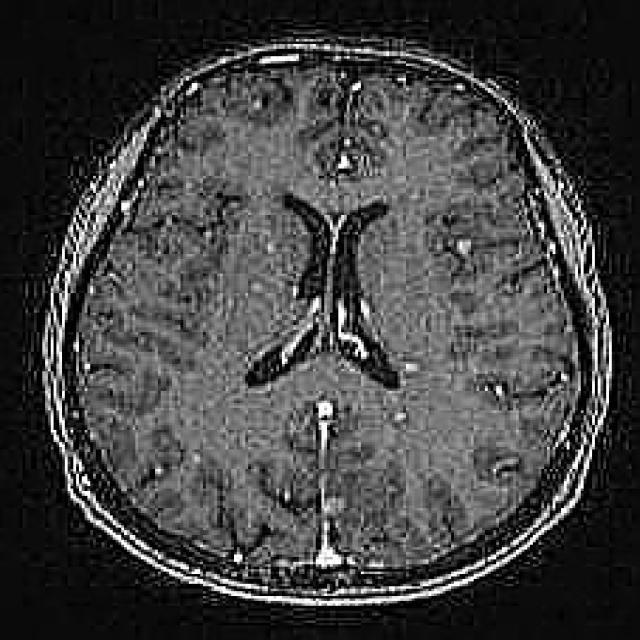notumor: (42, 37, 615, 608)
